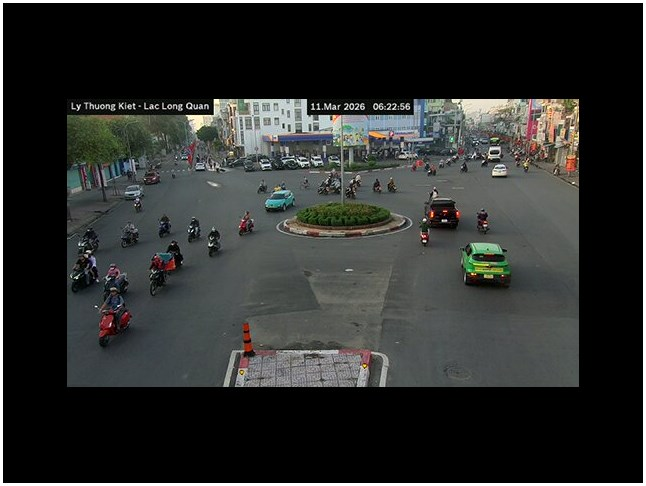car: (459, 241, 512, 287), (427, 198, 460, 228), (264, 191, 295, 212), (123, 185, 143, 200), (491, 163, 508, 177), (144, 171, 161, 184)
motorbike: (97, 297, 133, 347), (70, 255, 100, 293), (148, 265, 169, 296), (120, 221, 140, 247), (238, 212, 255, 236), (207, 226, 221, 255), (158, 214, 171, 238)
truck: (222, 319, 390, 384)
